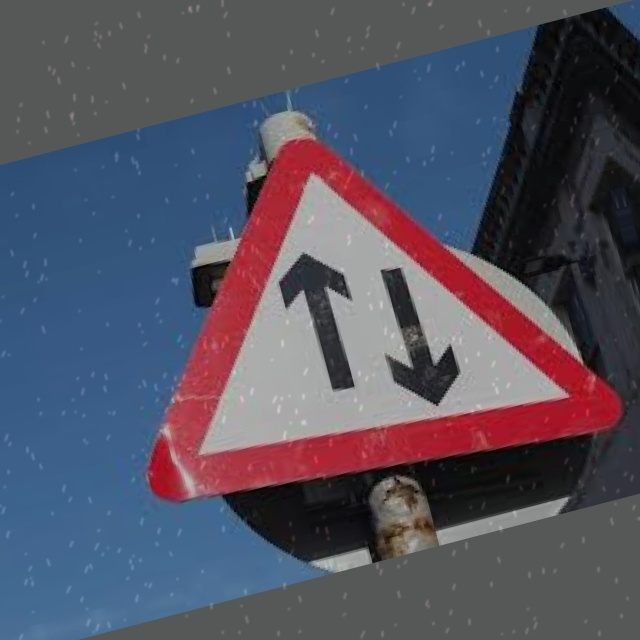Mandatory_Two_Way_Traffic: (80, 76, 632, 547)
